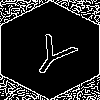Y: (25, 25, 85, 81)
